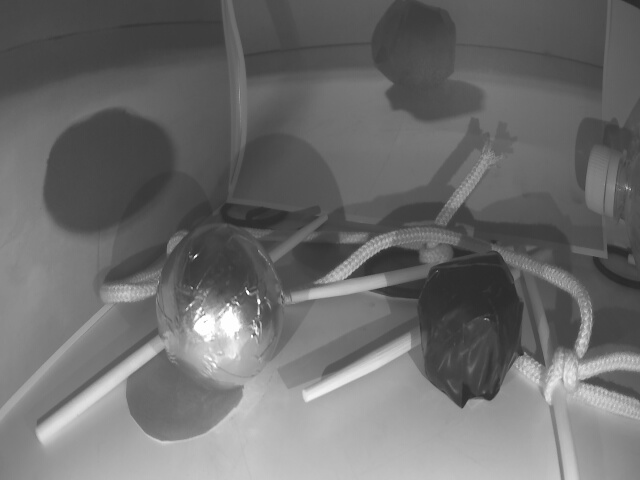Dead: (420, 251, 523, 407)
Live: (156, 226, 283, 392)
